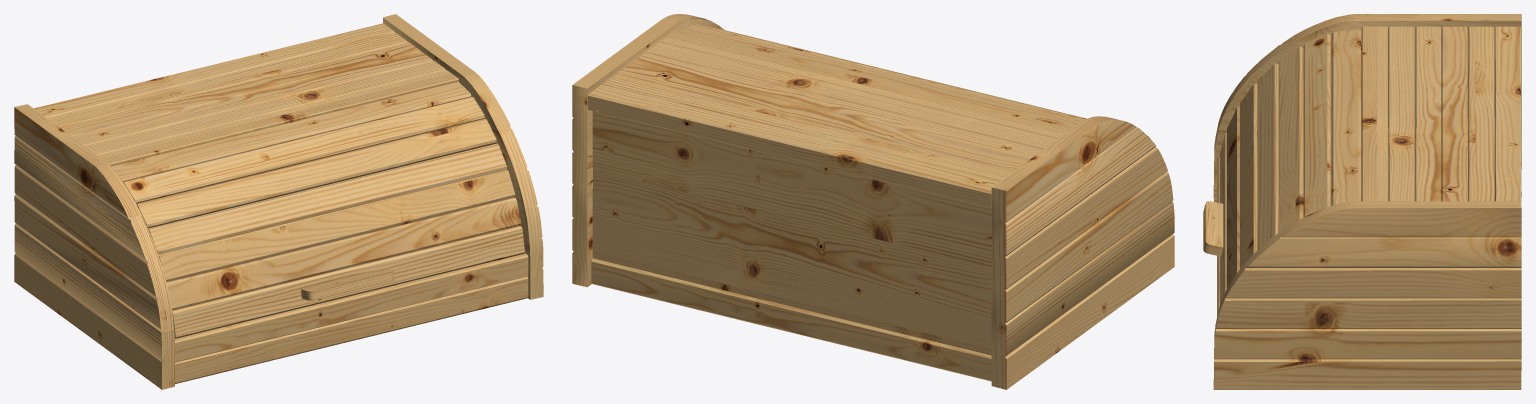
File: Bread box.FBX
The picture shows the model from 3 angles, left to right: view 1: azimuth 30°, elevation 25°; view 2: azimuth 150°, elevation 25°; view 3: azimuth 270°, elevation 25°; orthographic projection. The views are drawn at different scales.
Parts seen in each view (by area): view 1: bread box; view 2: bread box; view 3: bread box.
Boxes of the visible parts, x1,y1,x2,y2 form: bread box: (14, 14, 543, 389); bread box: (572, 14, 1174, 389); bread box: (1203, 14, 1521, 389).
Bounding box in the file's own units: 39.98 × 17.49 × 27.69.
1 material, 1 textured.
